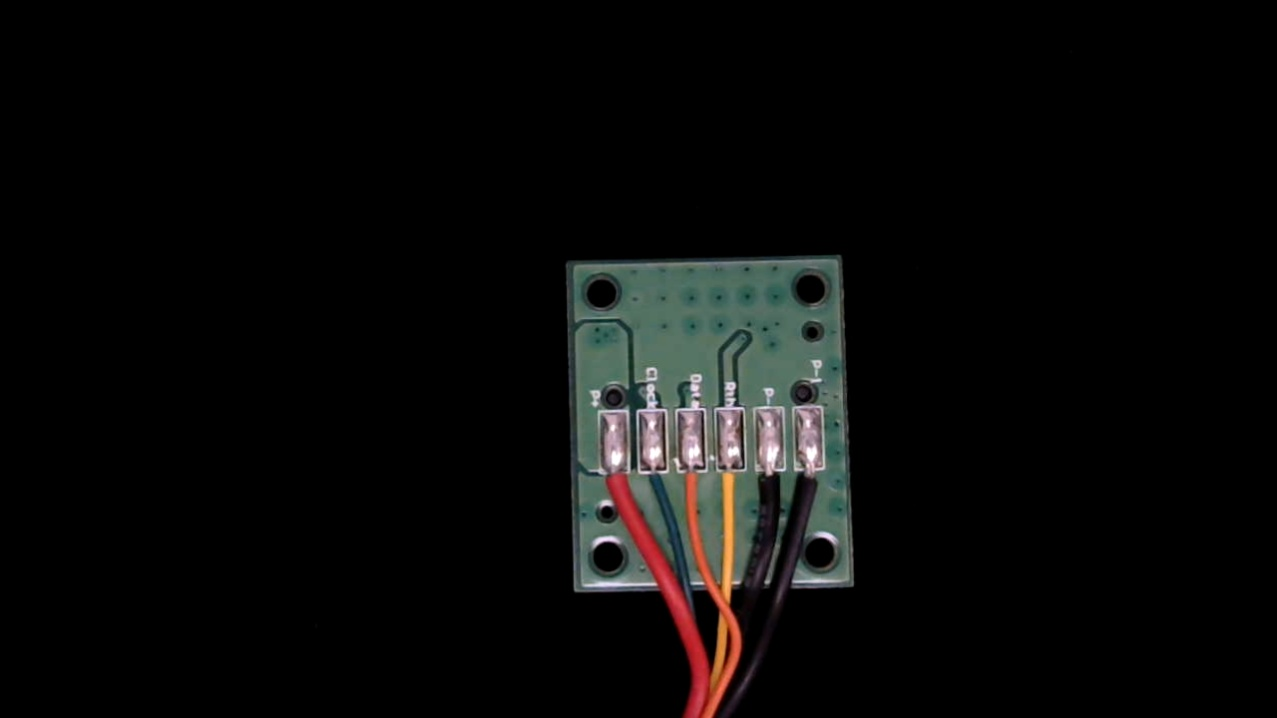Black: (751, 450, 786, 524)
Black1: (796, 451, 830, 518)
Green: (635, 457, 671, 508)
Orange: (674, 454, 707, 527)
Red: (597, 452, 631, 523)
Yellow: (712, 453, 747, 528)
